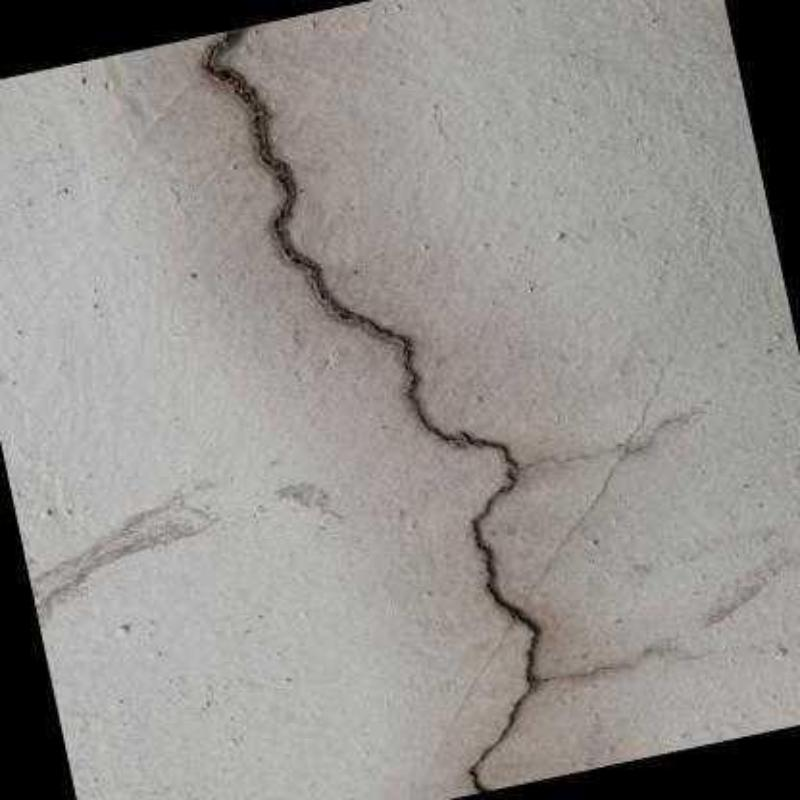crack: (199, 24, 544, 792)
